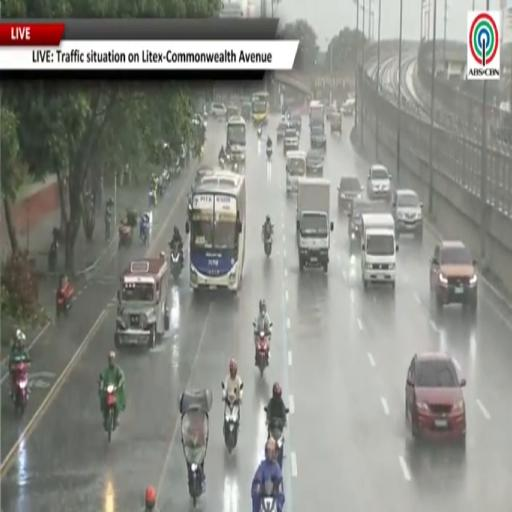bus: (186, 170, 246, 293), (226, 116, 246, 166), (252, 91, 269, 124), (310, 101, 325, 125)
car: (406, 352, 466, 446), (430, 240, 477, 311), (348, 199, 388, 252), (392, 189, 423, 242), (338, 176, 363, 212), (367, 164, 391, 199), (306, 149, 324, 177), (310, 123, 326, 150), (283, 127, 299, 154), (289, 112, 302, 135), (330, 112, 342, 134), (210, 103, 226, 119), (277, 119, 288, 140), (192, 114, 207, 129), (327, 101, 338, 120), (227, 104, 240, 120), (342, 99, 354, 116), (241, 102, 251, 122)
jeepney: (115, 253, 169, 348)
motorcycle: (180, 390, 212, 509), (224, 395, 240, 454), (13, 361, 29, 412), (254, 323, 269, 377), (268, 419, 284, 468), (105, 384, 116, 441), (56, 284, 74, 317), (260, 480, 278, 511), (104, 198, 114, 244), (170, 244, 182, 280), (119, 223, 133, 247), (48, 239, 58, 271), (140, 222, 149, 246), (264, 234, 272, 257), (105, 213, 111, 243), (149, 188, 157, 207), (219, 157, 225, 169), (232, 162, 239, 172), (267, 147, 272, 161), (257, 125, 262, 138)
truck: (297, 178, 333, 271)
